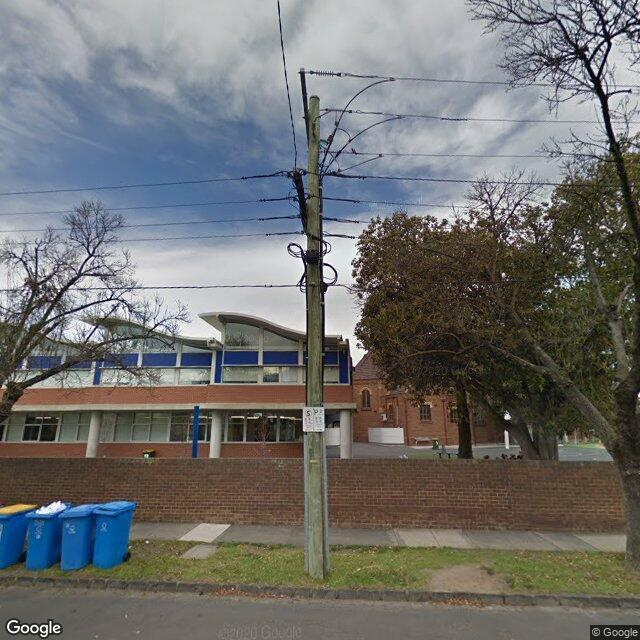crossarm: (239, 169, 365, 240), (299, 67, 353, 154)
timber-pole: (305, 94, 331, 580)
